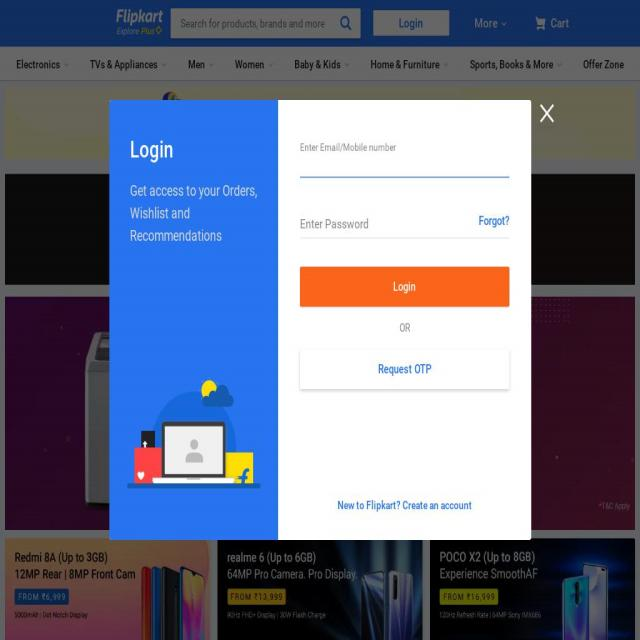login-form: (294, 123, 526, 389)
